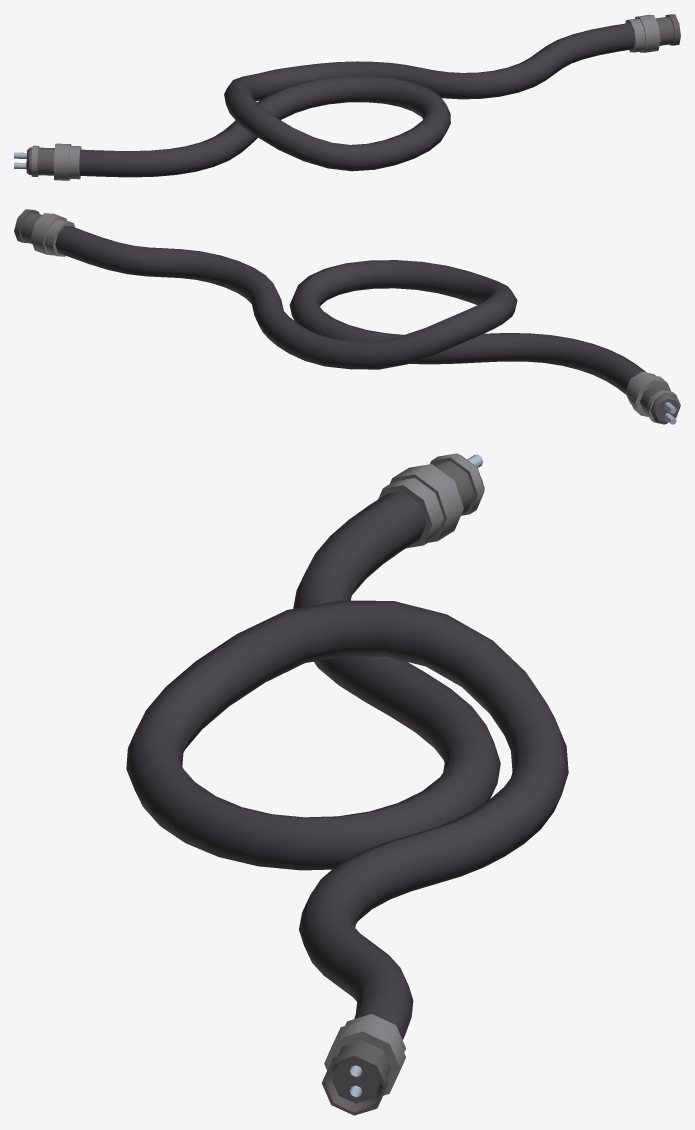
The model's file is SM_Building_Decor_02.fbx.
3 renders of one model, top to bottom at view 1: azimuth 30°, elevation 25°; view 2: azimuth 150°, elevation 25°; view 3: azimuth 270°, elevation 25°, orthographic. The views are drawn at different scales.
Visible parts, largest first — view 1: SM_Building_Decor_02; view 2: SM_Building_Decor_02; view 3: SM_Building_Decor_02.
Boxes of the visible parts, x1,y1,x2,y2 form: SM_Building_Decor_02: [14, 14, 680, 180]; SM_Building_Decor_02: [14, 209, 680, 424]; SM_Building_Decor_02: [126, 453, 568, 1115].
Size of the model in its own units: 2.08 by 0.1599 by 0.6292.
